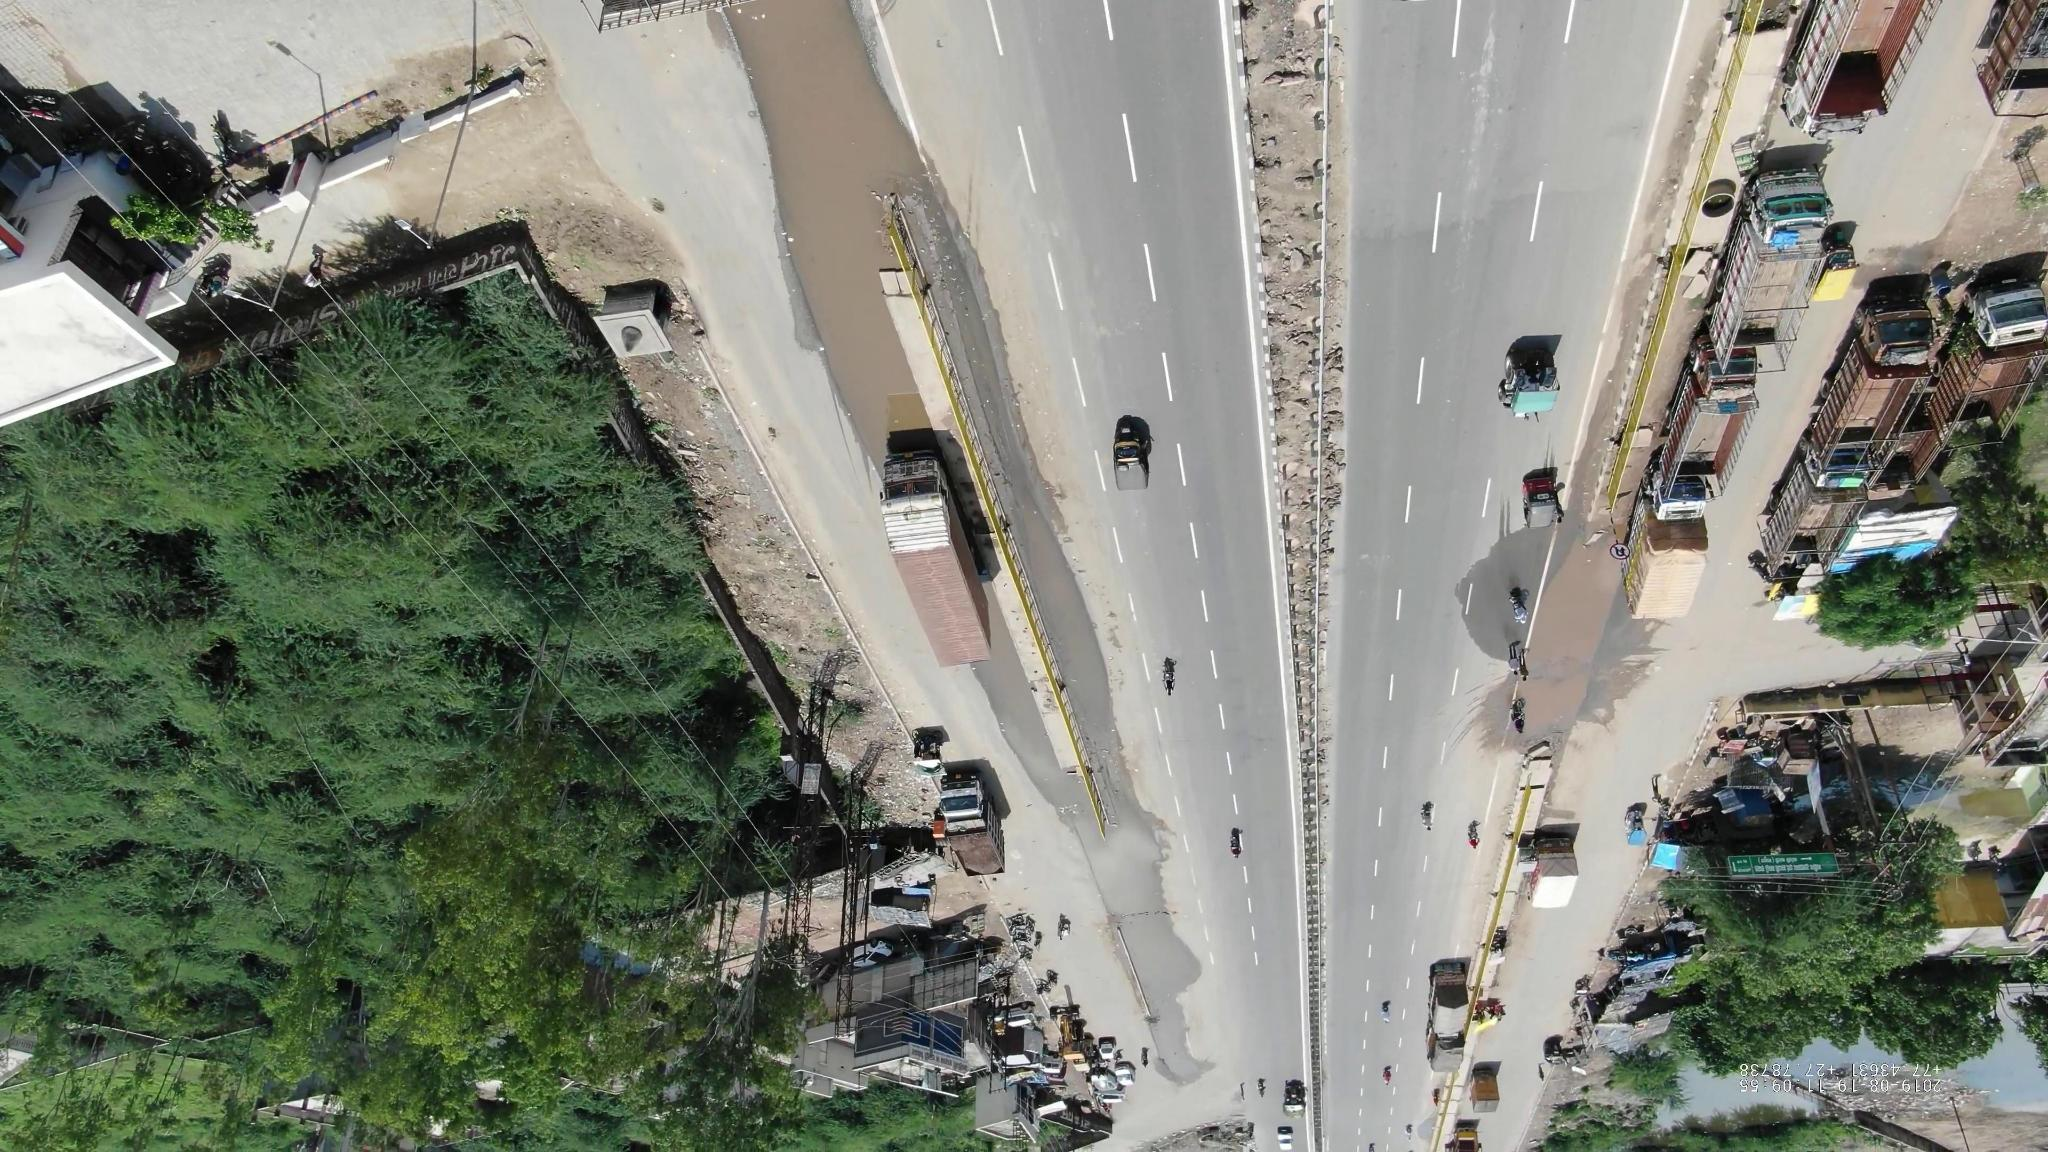Waterlogging: (737, 18, 916, 405), (1523, 553, 1619, 741)
